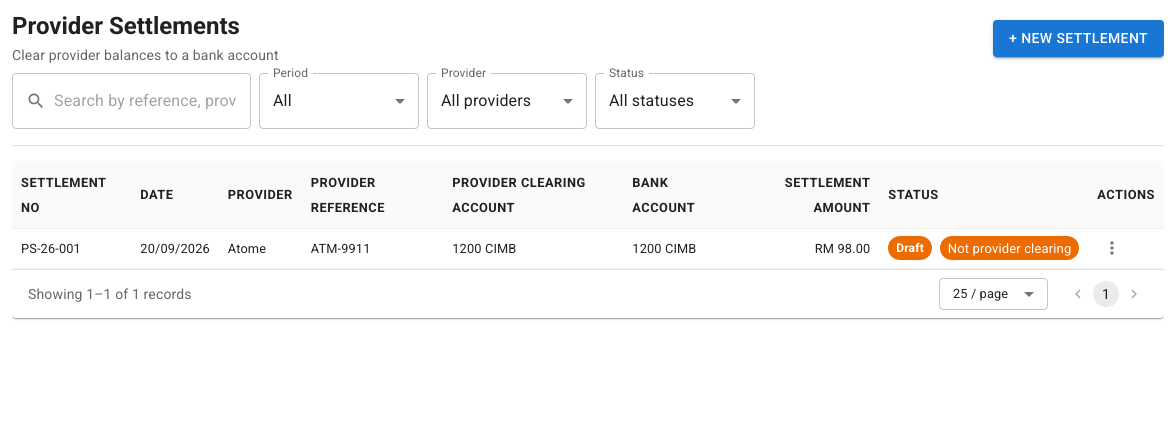
Test: ProviderSettlementsPage › disables Post with its reason for a DRAFT whose clearing account is not flagged, and shows the warning chip
This screenshot has width=1176, height=437.
Expected: the text "Not provider clearing" is shown, top-left (940, 239), bottom-right (1079, 258)
Click the button named "row actions". click: (1112, 248)
box: top-left (1097, 233), bottom-right (1127, 263)
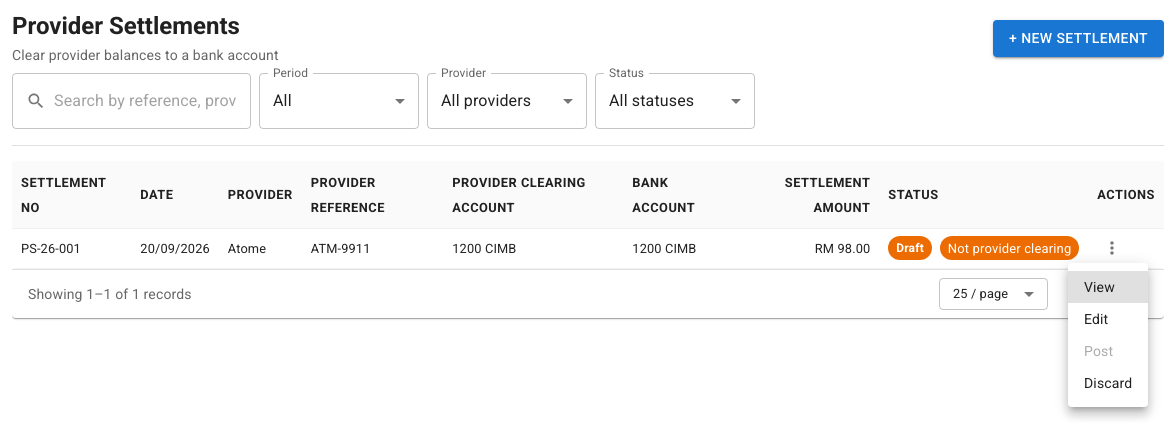
Result: the element showing "Post" is shown at top-left (1084, 343), bottom-right (1113, 359)
